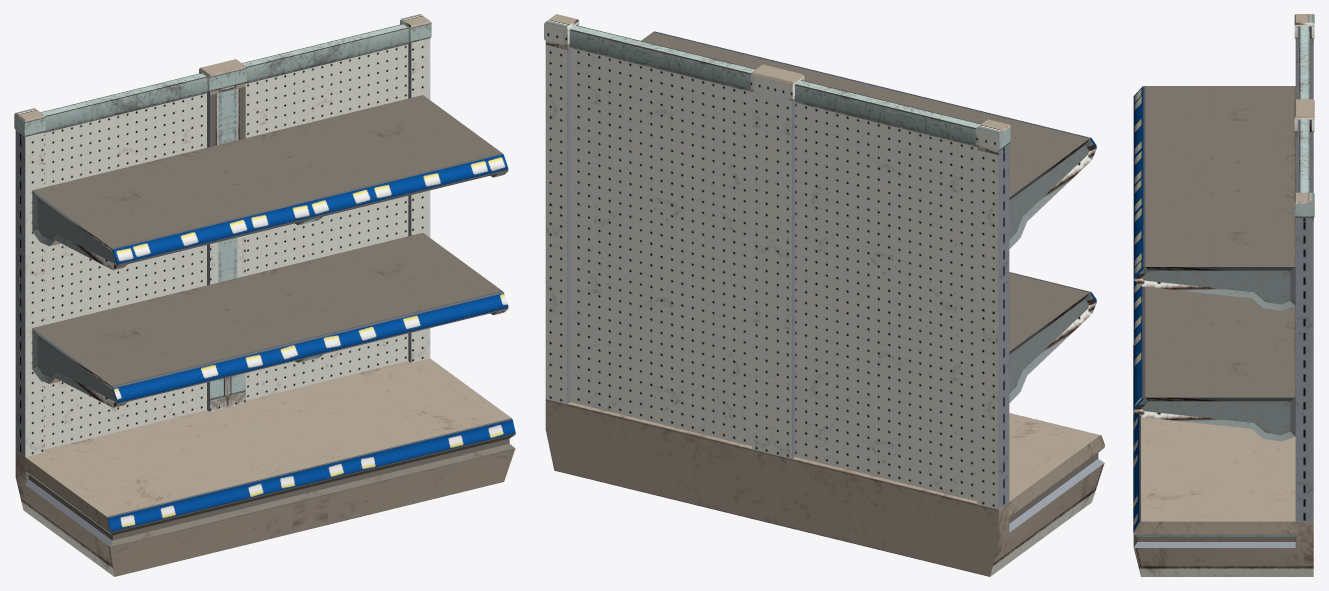
The model's file is Double_Rack.fbx.
3 renders of one model, left to right at view 1: azimuth 30°, elevation 25°; view 2: azimuth 150°, elevation 25°; view 3: azimuth 270°, elevation 25°, orthographic. The views are drawn at different scales.
Visible parts, largest first — view 1: Double_Rack; view 2: Double_Rack; view 3: Double_Rack.
Part boxes in pixels (<box>): Double_Rack: <box>14,14,515,576</box>; Double_Rack: <box>544,14,1104,576</box>; Double_Rack: <box>1133,14,1314,576</box>.
Size of the model in its own units: 1.91 by 1.79 by 0.7754.
1 material, 1 textured.
